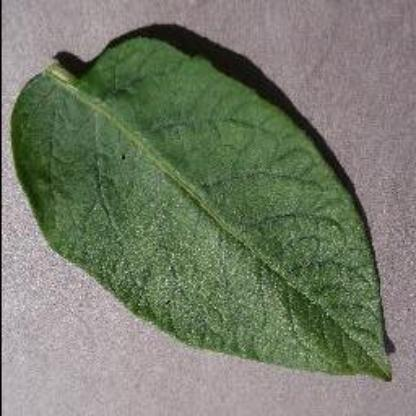Healthy-plant: (12, 26, 398, 390)
